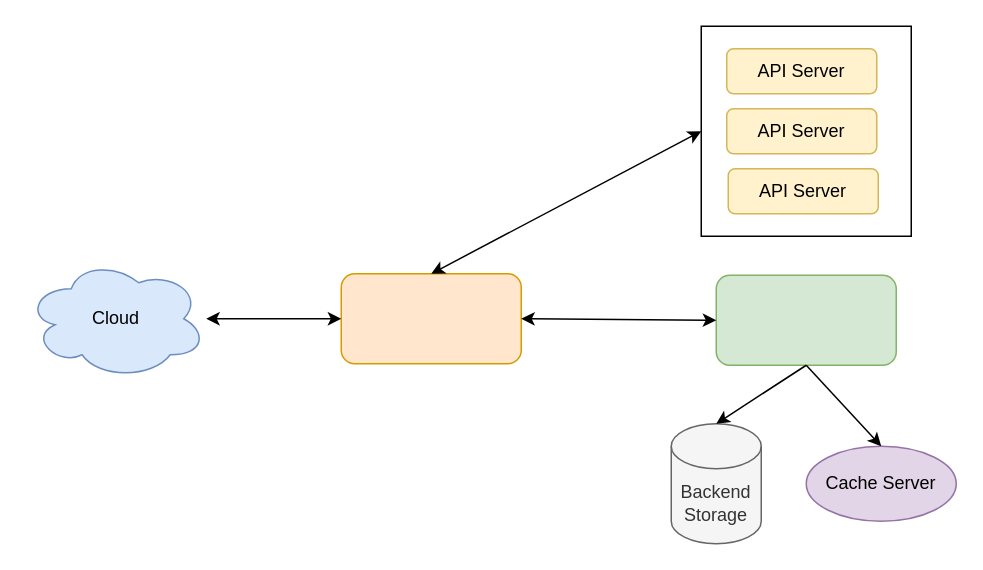
Some shapes in this 983 by 570 pixel diagram are drawn without their labels. The centre of each missing label's shape, as x and y in pixels:
Rate Limiter: (805,319)
Web Server: (430,318)
